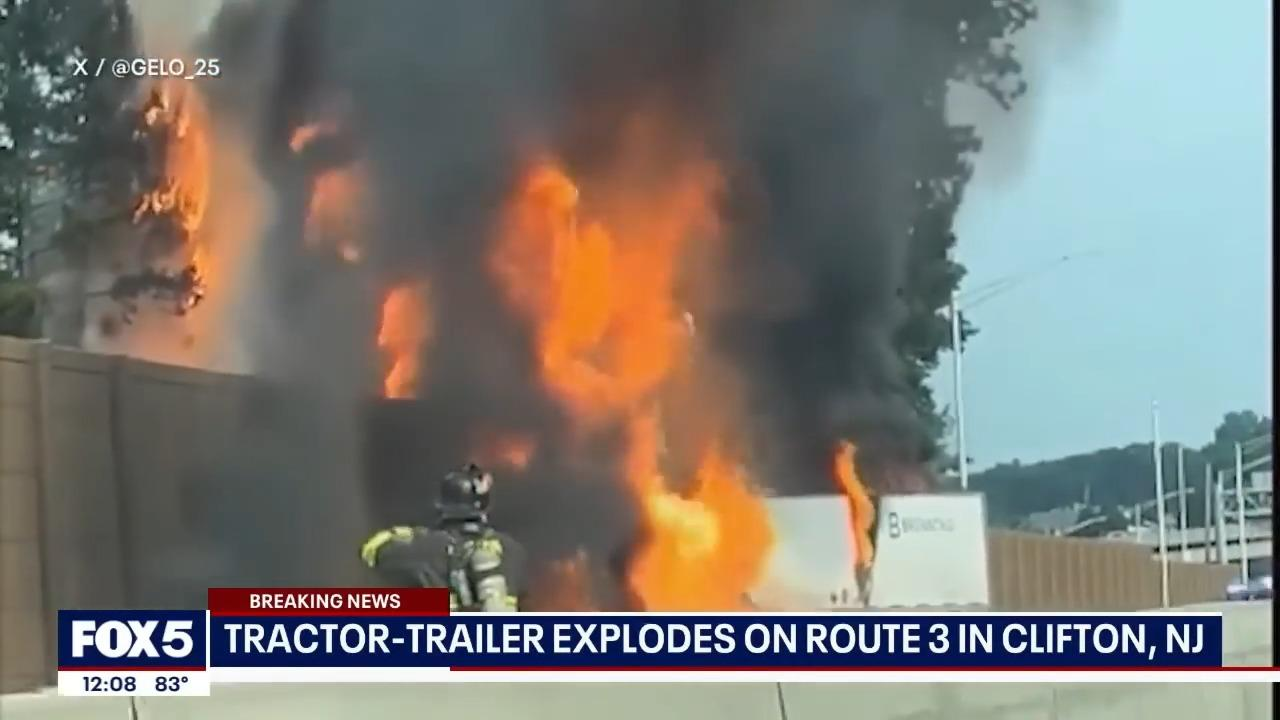fire: (476, 141, 834, 618), (121, 81, 244, 305)
